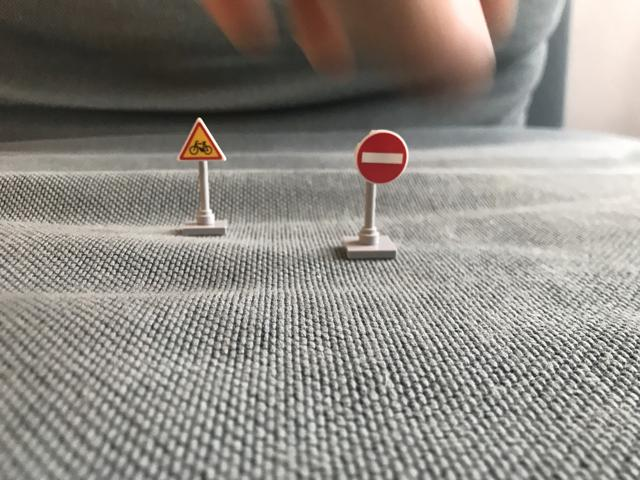radfahrer: (175, 115, 230, 164)
verbot der einfahrt: (351, 131, 410, 187)
